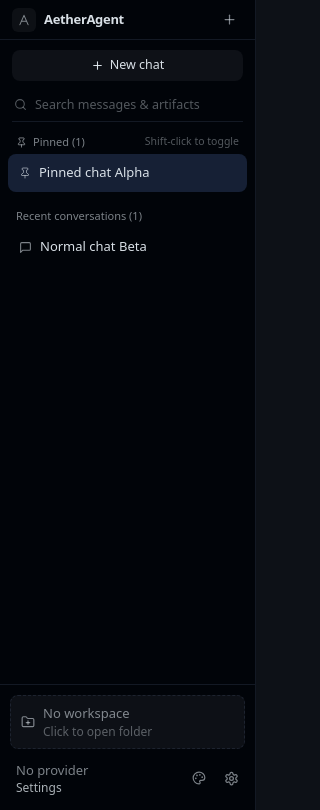
it: Sidebar deep-search snippet safety › never injects stored HTML payloads from deep-search snippets
Step 1. Type "database" into the field with placeholder "Search messages & artifacts" → (138, 105), box [35,91,241,119]
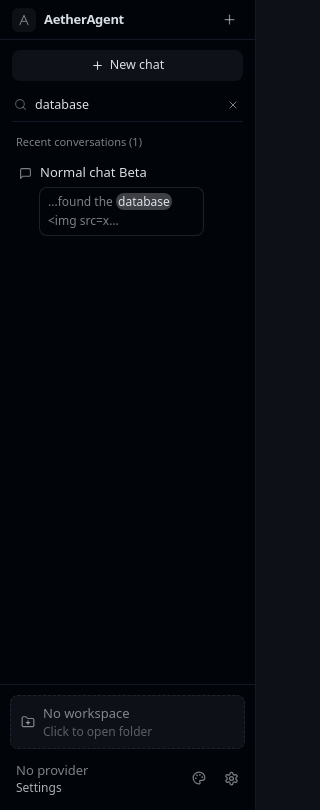
Check: the text "database" is shown, box [116,193,172,210]
